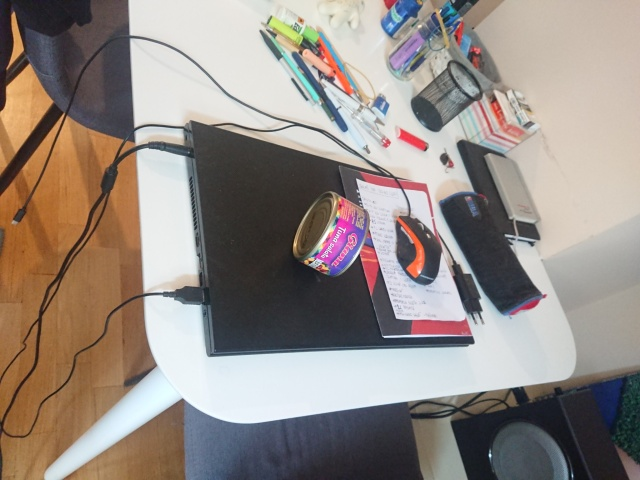Giana Tuna Salad Mexico 185g: (289, 188, 373, 280)
